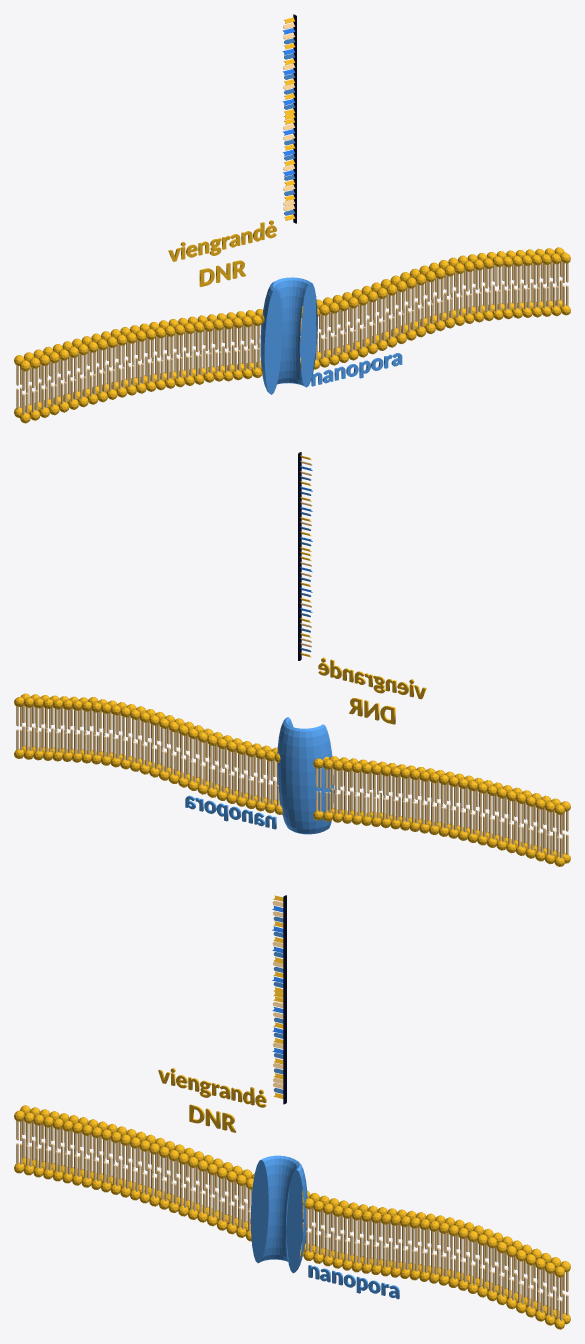
The model's file is sekoskaita.glb.
The picture shows the model from 3 angles, top to bottom: view 1: azimuth 30°, elevation 25°; view 2: azimuth 150°, elevation 25°; view 3: azimuth 330°, elevation 25°; orthographic projection.
Visible parts, largest first — view 1: membrana, nanopora, DNR, Text.001, Text; view 2: membrana, nanopora, DNR, Text.001, Text; view 3: membrana, nanopora, DNR, Text.001, Text.
Boxes of the visible parts, x1=… form: membrana: x1=14, y1=247, x2=570, y2=423; nanopora: x1=260, y1=277, x2=317, y2=394; DNR: x1=282, y1=14, x2=296, y2=223; Text.001: x1=168, y1=220, x2=276, y2=286; Text: x1=311, y1=353, x2=402, y2=386; membrana: x1=14, y1=693, x2=570, y2=866; nanopora: x1=277, y1=717, x2=334, y2=834; DNR: x1=298, y1=452, x2=312, y2=660; Text.001: x1=318, y1=657, x2=426, y2=724; Text: x1=185, y1=795, x2=276, y2=829; membrana: x1=14, y1=1105, x2=570, y2=1329; nanopora: x1=250, y1=1155, x2=307, y2=1273; DNR: x1=272, y1=895, x2=286, y2=1104; Text.001: x1=158, y1=1068, x2=266, y2=1132; Text: x1=308, y1=1265, x2=399, y2=1299.
Size of what is drawn, in the model's own units: 72.24 by 47.98 by 3.47.
